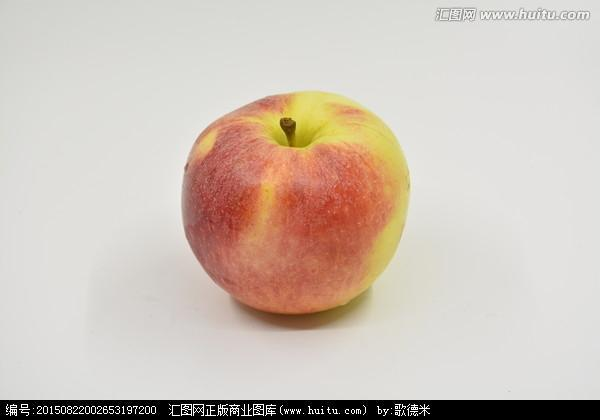apple: (176, 89, 411, 316)
